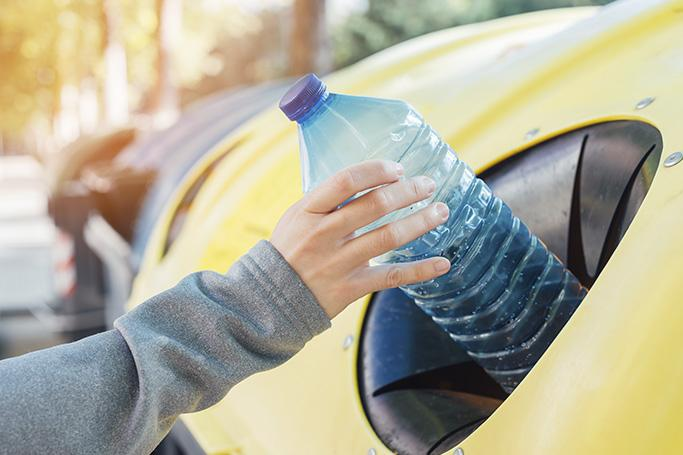paper: (245, 37, 602, 397)
